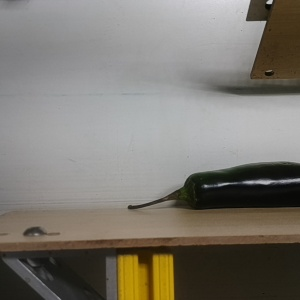Cut Point: (172, 171, 205, 209)
